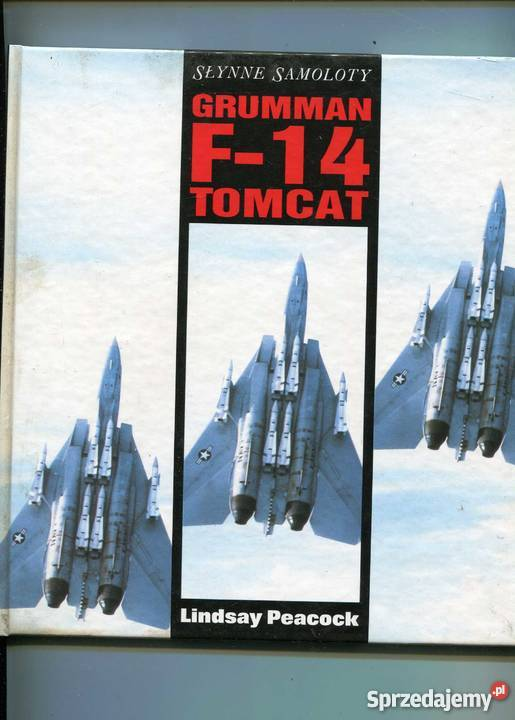F14: (183, 253, 362, 546), (1, 335, 172, 631), (373, 179, 515, 466)
